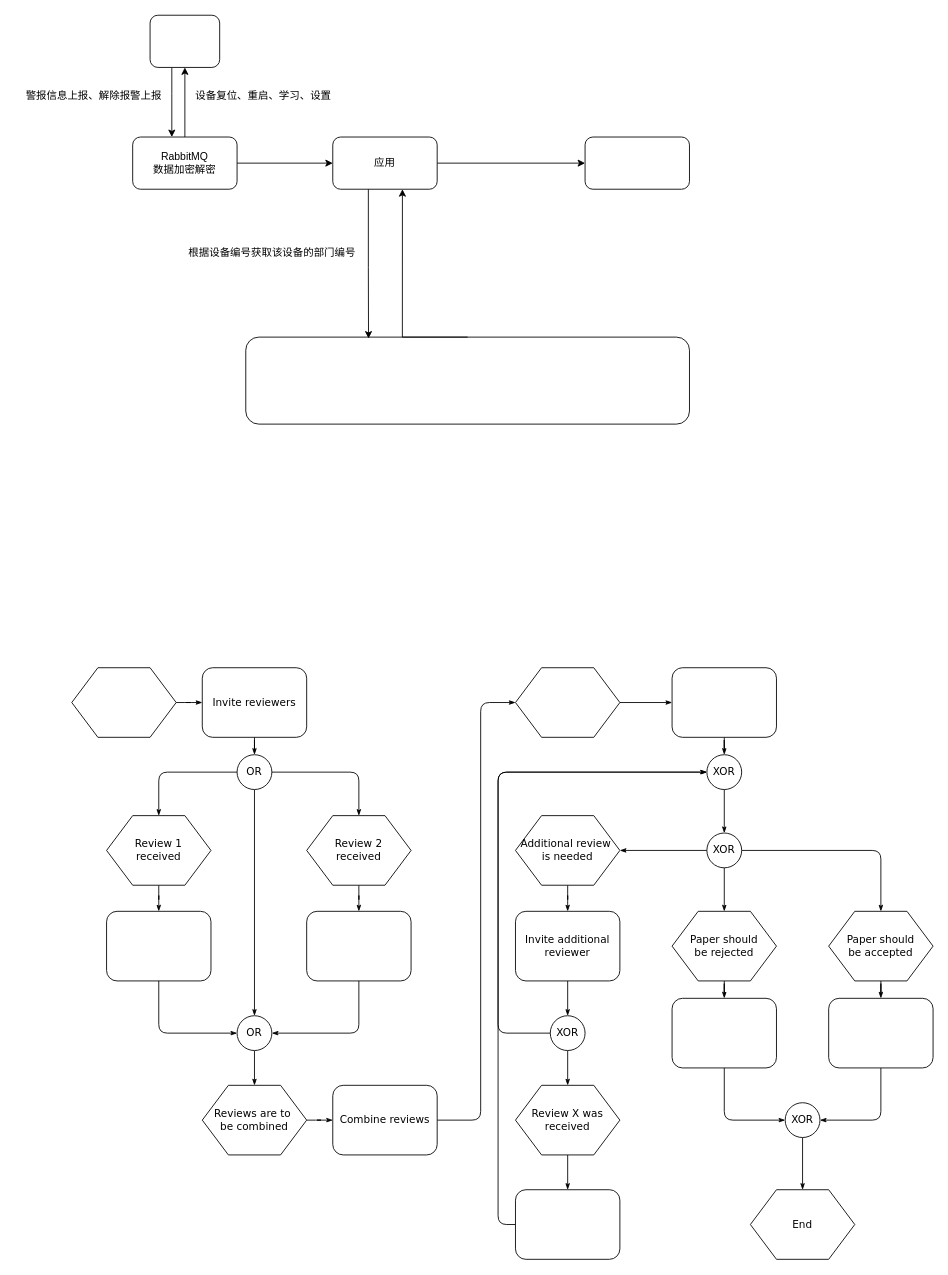
The diagram is 948 pixels wide and 1275 high, and some of its shapes have lost their labels. Here are the shapes that lost their labels. From the top down, the box of each, then its label:
(149, 14, 220, 67): 设备
(245, 336, 689, 424): MySQL
(71, 667, 176, 737): Reviewers are to be invited
(515, 667, 620, 737): Discussion is to be made
(671, 667, 776, 737): Decide on acceptance
(106, 910, 211, 981): Store Review 1
(306, 910, 411, 981): Store Review 2
(671, 997, 776, 1068): Reject paper
(828, 997, 933, 1068): Accept paper
(515, 1189, 620, 1259): Combine review X with others
